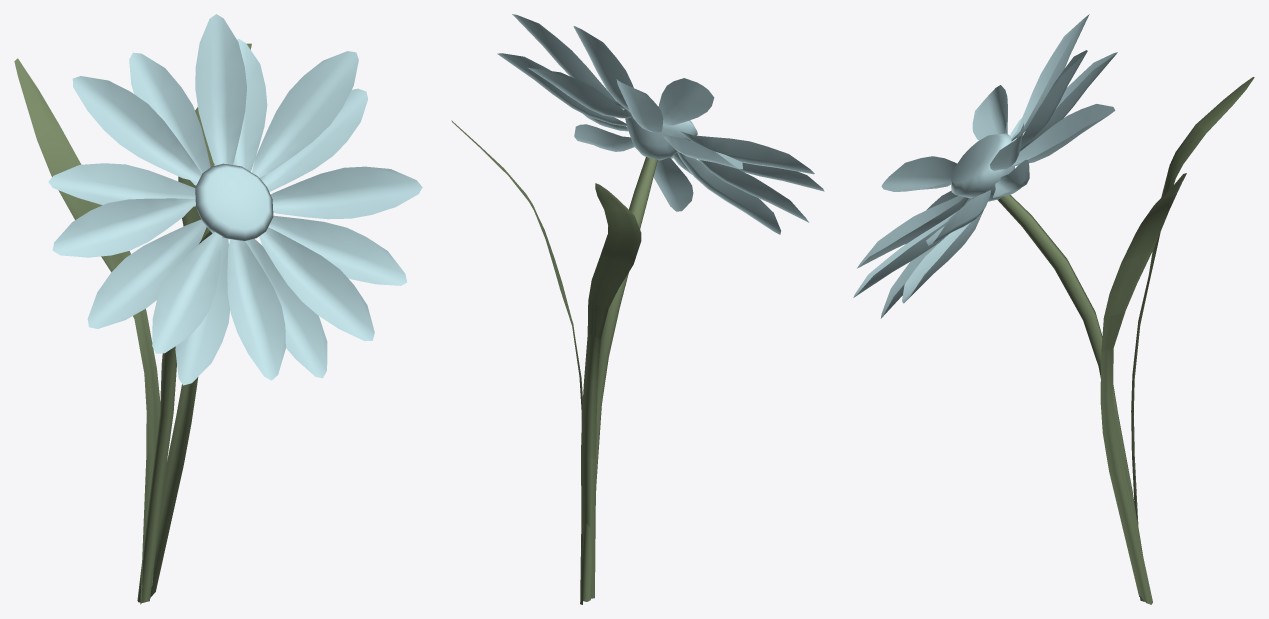
Rendered from BlueFlower_ForTerrain.fbx.
The picture shows the model from 3 angles, left to right: view 1: azimuth 30°, elevation 25°; view 2: azimuth 150°, elevation 25°; view 3: azimuth 270°, elevation 25°; orthographic projection. The views are drawn at different scales.
Visible parts, largest first — view 1: pPlane60; view 2: pPlane60; view 3: pPlane60.
Boxes of the visible parts, box(x1,y1,x2,y2) form: pPlane60: box(14, 14, 422, 604); pPlane60: box(451, 14, 824, 604); pPlane60: box(853, 14, 1254, 604).
Size of the model in its own units: 0.2174 by 0.3702 by 0.2355.
